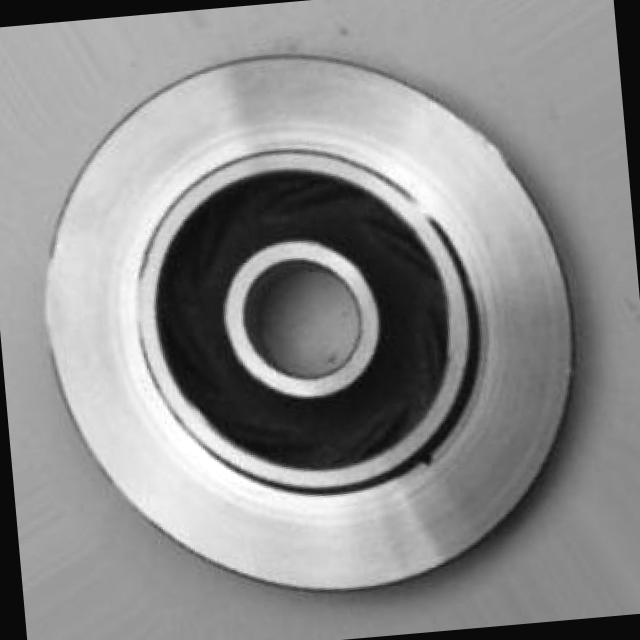Defect: (411, 441, 454, 476)
